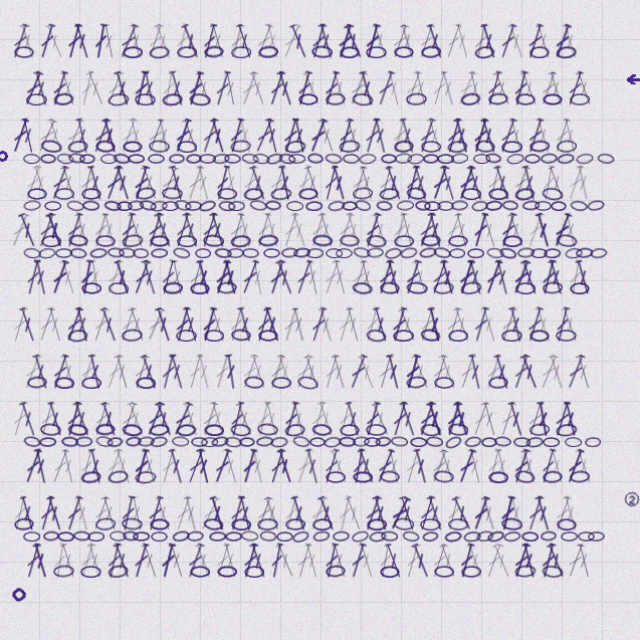chain: (296, 374, 319, 390), (41, 139, 63, 154), (135, 186, 157, 201), (122, 233, 144, 248), (554, 233, 576, 248), (459, 280, 481, 295), (459, 92, 480, 107), (405, 186, 426, 201), (419, 327, 440, 342), (108, 468, 129, 483), (513, 468, 534, 483), (108, 562, 129, 577), (108, 93, 130, 107), (189, 93, 211, 107), (351, 93, 373, 107), (284, 140, 306, 154), (270, 187, 292, 201), (540, 187, 562, 201), (554, 422, 576, 436), (135, 469, 157, 483), (540, 563, 562, 577), (443, 433, 462, 449), (149, 46, 170, 60), (473, 46, 494, 60), (554, 46, 575, 60), (162, 93, 183, 107), (68, 140, 89, 154), (446, 140, 467, 154), (243, 187, 264, 201), (378, 187, 399, 201), (513, 187, 534, 201), (230, 234, 251, 248), (365, 234, 386, 248), (351, 281, 372, 295), (68, 328, 89, 342), (365, 328, 386, 342), (68, 422, 89, 436), (122, 422, 143, 436), (149, 422, 170, 436), (176, 422, 197, 436), (230, 422, 251, 436), (284, 422, 305, 436), (311, 422, 332, 436), (419, 422, 440, 436), (81, 469, 102, 483), (203, 516, 224, 530), (338, 140, 360, 153), (405, 281, 427, 294), (256, 422, 278, 435), (513, 563, 535, 576), (311, 46, 332, 59), (54, 93, 75, 106), (405, 93, 426, 106), (149, 140, 170, 153), (230, 140, 251, 153), (162, 187, 183, 200), (203, 234, 224, 247), (432, 281, 453, 294), (122, 328, 143, 341), (405, 375, 426, 388), (41, 422, 62, 435), (432, 469, 453, 482), (122, 516, 143, 529), (500, 516, 521, 529), (54, 563, 75, 576), (265, 152, 284, 166), (198, 199, 217, 213), (172, 246, 191, 260), (383, 246, 402, 260), (497, 246, 516, 260), (291, 528, 310, 542), (350, 528, 369, 542), (485, 528, 504, 542), (204, 46, 224, 59), (258, 46, 278, 59), (420, 46, 440, 59), (325, 93, 345, 106), (487, 93, 507, 106), (96, 140, 116, 153), (393, 140, 413, 153), (474, 140, 494, 153), (528, 140, 548, 153), (555, 140, 575, 153), (352, 187, 372, 200), (69, 234, 89, 247), (258, 234, 278, 247), (312, 234, 332, 247), (339, 234, 359, 247), (420, 234, 440, 247), (163, 281, 183, 294), (217, 281, 237, 294), (379, 281, 399, 294), (541, 281, 561, 294), (231, 328, 251, 341), (28, 375, 48, 388), (244, 375, 264, 388), (487, 375, 507, 388), (96, 422, 116, 435), (447, 422, 467, 435), (528, 422, 548, 435), (379, 469, 399, 482), (541, 469, 561, 482), (568, 469, 588, 482), (15, 516, 35, 529), (96, 516, 116, 529), (393, 516, 413, 529), (325, 563, 345, 576), (365, 47, 386, 59), (27, 94, 48, 106), (135, 94, 156, 106), (500, 141, 521, 153), (176, 329, 197, 341), (392, 329, 413, 341), (500, 329, 521, 341), (554, 329, 575, 341), (365, 423, 386, 435), (257, 517, 278, 529), (419, 517, 440, 529), (81, 564, 102, 576), (15, 47, 35, 59), (123, 47, 143, 59), (177, 47, 197, 59), (231, 47, 251, 59), (339, 47, 359, 59), (393, 47, 413, 59), (528, 47, 548, 59), (298, 94, 318, 106), (514, 94, 534, 106), (541, 94, 561, 106), (568, 94, 588, 106), (123, 141, 143, 153), (177, 141, 197, 153), (420, 141, 440, 153), (28, 188, 48, 200), (55, 188, 75, 200), (82, 188, 102, 200), (217, 188, 237, 200), (298, 188, 318, 200), (460, 188, 480, 200), (487, 188, 507, 200), (42, 235, 62, 247), (96, 235, 116, 247), (150, 235, 170, 247), (177, 235, 197, 247), (393, 235, 413, 247), (447, 235, 467, 247), (501, 235, 521, 247), (82, 282, 102, 294), (109, 282, 129, 294), (190, 282, 210, 294), (514, 282, 534, 294), (568, 282, 588, 294), (204, 329, 224, 341), (258, 329, 278, 341), (447, 329, 467, 341), (528, 329, 548, 341), (55, 376, 75, 388), (82, 376, 102, 388), (136, 376, 156, 388), (271, 376, 291, 388), (433, 376, 453, 388), (204, 423, 224, 435), (339, 423, 359, 435), (325, 470, 345, 482), (352, 470, 372, 482), (487, 470, 507, 482), (150, 517, 170, 529), (231, 517, 251, 529), (285, 517, 305, 529), (312, 517, 332, 529), (366, 517, 386, 529), (447, 517, 467, 529), (555, 517, 575, 529), (190, 564, 210, 576), (217, 564, 237, 576), (244, 564, 264, 576), (379, 564, 399, 576), (433, 564, 453, 576), (460, 564, 480, 576), (139, 199, 157, 212), (174, 199, 192, 212), (249, 199, 267, 212), (353, 199, 371, 212), (585, 199, 603, 212), (352, 246, 370, 259), (399, 246, 417, 259), (418, 246, 436, 259), (432, 246, 450, 259), (24, 434, 42, 447), (96, 434, 114, 447), (150, 434, 168, 447), (211, 434, 229, 447), (292, 434, 310, 447), (463, 434, 481, 447), (172, 528, 190, 541), (312, 528, 330, 541), (475, 528, 493, 541), (57, 153, 75, 165), (113, 153, 131, 165), (212, 153, 230, 165), (241, 153, 259, 165), (252, 153, 270, 165), (278, 153, 296, 165), (324, 153, 342, 165), (358, 153, 376, 165), (406, 153, 424, 165), (505, 153, 523, 165), (555, 153, 573, 165), (574, 153, 592, 165), (595, 153, 613, 165), (67, 200, 85, 212), (104, 200, 122, 212), (150, 200, 168, 212), (218, 200, 236, 212), (327, 200, 345, 212), (568, 200, 586, 212), (24, 247, 42, 259), (39, 247, 57, 259), (70, 247, 88, 259), (90, 247, 108, 259), (214, 247, 232, 259), (485, 247, 503, 259), (563, 247, 581, 259), (588, 247, 606, 259), (224, 435, 242, 447), (270, 435, 288, 447), (323, 435, 341, 447), (524, 435, 542, 447), (368, 529, 386, 541), (401, 529, 419, 541), (443, 529, 461, 541), (462, 529, 480, 541), (502, 529, 520, 541), (375, 200, 392, 212), (470, 200, 487, 212), (107, 435, 124, 447), (421, 529, 438, 541), (24, 200, 42, 211), (259, 529, 277, 540), (69, 153, 86, 164), (394, 153, 411, 164), (450, 153, 467, 164), (539, 153, 556, 164), (83, 200, 100, 211), (396, 200, 413, 211), (450, 200, 467, 211), (484, 200, 501, 211), (521, 200, 538, 211), (108, 247, 125, 258), (119, 247, 136, 258), (281, 247, 298, 258), (293, 247, 310, 258), (366, 247, 383, 258), (516, 247, 533, 258), (574, 247, 591, 258), (62, 435, 79, 446), (76, 435, 93, 446), (138, 435, 155, 446), (172, 435, 189, 446), (256, 435, 273, 446), (338, 435, 355, 446), (352, 435, 369, 446), (374, 435, 391, 446), (390, 435, 407, 446), (425, 435, 442, 446), (493, 435, 510, 446), (74, 529, 91, 540), (110, 529, 127, 540), (187, 529, 204, 540), (241, 529, 258, 540), (332, 529, 349, 540), (380, 529, 397, 540), (307, 153, 323, 164), (484, 153, 500, 164), (128, 200, 144, 211), (265, 200, 281, 211), (414, 200, 430, 211), (501, 200, 517, 211), (126, 435, 142, 446), (44, 529, 60, 540), (123, 529, 139, 540), (539, 529, 555, 540), (24, 154, 41, 164), (101, 154, 118, 164), (128, 154, 145, 164), (148, 154, 165, 164), (199, 154, 216, 164), (224, 154, 241, 164), (288, 154, 305, 164), (342, 154, 359, 164), (436, 154, 453, 164), (472, 154, 489, 164), (45, 201, 62, 211), (162, 201, 179, 211), (185, 201, 202, 211), (228, 201, 245, 211), (286, 201, 303, 211), (305, 201, 322, 211), (423, 201, 440, 211), (436, 201, 453, 211), (533, 201, 550, 211), (56, 248, 73, 258), (151, 248, 168, 258), (227, 248, 244, 258), (242, 248, 259, 258), (263, 248, 280, 258), (306, 248, 323, 258), (325, 248, 342, 258), (335, 248, 352, 258), (466, 248, 483, 258), (529, 248, 546, 258), (542, 248, 559, 258), (40, 436, 57, 446), (191, 436, 208, 446), (201, 436, 218, 446), (363, 436, 380, 446), (409, 436, 426, 446), (512, 436, 529, 446), (541, 436, 558, 446), (563, 436, 580, 446), (24, 530, 41, 540), (58, 530, 75, 540), (88, 530, 105, 540), (133, 530, 150, 540), (151, 530, 168, 540), (209, 530, 226, 540), (225, 530, 242, 540), (276, 530, 293, 540), (520, 530, 537, 540), (559, 530, 576, 540), (576, 530, 593, 540), (586, 530, 603, 540), (41, 154, 57, 164), (80, 154, 96, 164), (169, 154, 185, 164), (186, 154, 202, 164), (380, 154, 396, 164), (422, 154, 438, 164), (523, 154, 539, 164), (117, 201, 133, 211), (341, 201, 357, 211), (549, 201, 565, 211), (133, 248, 149, 258), (195, 248, 211, 258), (448, 248, 464, 258), (239, 436, 255, 446), (309, 436, 325, 446), (480, 436, 496, 446), (583, 436, 599, 446)
double: (386, 494, 412, 530), (448, 494, 474, 530), (453, 71, 478, 107), (35, 118, 60, 154), (170, 400, 195, 436), (117, 24, 141, 60), (179, 24, 203, 60), (279, 24, 303, 60), (341, 24, 365, 60), (22, 71, 46, 107), (84, 71, 108, 107), (63, 118, 87, 154), (252, 118, 276, 154), (157, 165, 181, 201), (9, 212, 33, 248), (144, 306, 168, 342), (516, 353, 540, 389), (535, 353, 559, 389), (562, 353, 586, 389), (368, 400, 392, 436), (198, 494, 222, 530), (306, 494, 330, 530), (273, 541, 297, 577), (408, 541, 432, 577), (401, 70, 423, 108), (490, 164, 512, 202), (563, 164, 585, 202), (320, 258, 342, 296), (347, 258, 369, 296), (50, 352, 72, 390), (77, 352, 99, 390), (274, 352, 296, 390), (509, 352, 531, 390), (571, 446, 593, 484), (247, 540, 269, 578), (44, 24, 67, 60), (152, 24, 175, 60), (252, 24, 275, 60), (287, 24, 310, 60), (238, 71, 261, 107), (300, 71, 323, 107), (346, 71, 369, 107), (489, 71, 512, 107), (516, 71, 539, 107), (144, 118, 167, 154), (179, 118, 202, 154), (306, 118, 329, 154), (495, 118, 518, 154), (49, 165, 72, 201), (103, 165, 126, 201), (138, 165, 161, 201), (184, 165, 207, 201), (454, 165, 477, 201), (17, 212, 40, 248), (36, 212, 59, 248), (44, 212, 67, 248), (152, 212, 175, 248), (503, 212, 526, 248), (549, 212, 572, 248), (49, 259, 72, 295), (273, 259, 296, 295), (481, 259, 504, 295), (98, 306, 121, 342), (395, 306, 418, 342), (22, 353, 45, 389), (138, 353, 161, 389), (238, 353, 261, 389), (292, 353, 315, 389), (346, 353, 369, 389), (408, 353, 431, 389), (435, 353, 458, 389), (71, 400, 94, 436), (125, 400, 148, 436), (144, 400, 167, 436), (233, 400, 256, 436), (211, 447, 234, 483), (327, 447, 350, 483), (354, 447, 377, 483), (373, 447, 396, 483), (427, 447, 450, 483), (454, 447, 477, 483), (562, 447, 585, 483), (111, 541, 134, 577), (184, 541, 207, 577), (192, 541, 215, 577), (489, 541, 512, 577), (543, 541, 566, 577), (562, 541, 585, 577), (10, 24, 32, 60), (388, 24, 410, 60), (423, 24, 445, 60), (504, 24, 526, 60), (550, 24, 572, 60), (104, 71, 126, 107), (193, 71, 215, 107), (274, 71, 296, 107), (374, 71, 396, 107), (536, 71, 558, 107), (571, 71, 593, 107), (10, 118, 32, 154), (45, 118, 67, 154), (91, 118, 113, 154), (118, 118, 140, 154), (172, 118, 194, 154), (199, 118, 221, 154), (315, 118, 337, 154), (415, 118, 437, 154), (523, 118, 545, 154), (23, 165, 45, 201), (58, 165, 80, 201), (112, 165, 134, 201), (247, 165, 269, 201), (266, 165, 288, 201), (301, 165, 323, 201), (347, 165, 369, 201), (382, 165, 404, 201), (428, 165, 450, 201), (463, 165, 485, 201), (509, 165, 531, 201), (544, 165, 566, 201), (64, 212, 86, 248), (180, 212, 202, 248), (288, 212, 310, 248), (334, 212, 356, 248), (361, 212, 383, 248), (415, 212, 437, 248), (496, 212, 518, 248), (523, 212, 545, 248), (104, 259, 126, 295), (131, 259, 153, 295), (239, 259, 261, 295), (266, 259, 288, 295), (401, 259, 423, 295), (509, 259, 531, 295), (517, 259, 539, 295), (64, 306, 86, 342), (126, 306, 148, 342), (261, 306, 283, 342), (450, 306, 472, 342), (496, 306, 518, 342), (531, 306, 553, 342), (104, 353, 126, 389), (247, 353, 269, 389), (266, 353, 288, 389), (355, 353, 377, 389), (455, 353, 477, 389), (544, 353, 566, 389), (18, 400, 40, 436), (118, 400, 140, 436), (153, 400, 175, 436), (180, 400, 202, 436), (199, 400, 221, 436), (396, 400, 418, 436), (415, 400, 437, 436), (423, 400, 445, 436), (23, 447, 45, 483), (50, 447, 72, 483), (112, 447, 134, 483), (185, 447, 207, 483), (293, 447, 315, 483), (509, 447, 531, 483), (64, 494, 86, 530), (172, 494, 194, 530), (253, 494, 275, 530), (261, 494, 283, 530), (315, 494, 337, 530), (342, 494, 364, 530), (361, 494, 383, 530), (423, 494, 445, 530), (469, 494, 491, 530), (523, 494, 545, 530), (550, 494, 572, 530), (77, 541, 99, 577), (139, 541, 161, 577), (382, 541, 404, 577), (436, 541, 458, 577), (463, 541, 485, 577), (482, 541, 504, 577), (509, 541, 531, 577), (18, 24, 39, 60), (145, 24, 166, 60), (207, 24, 228, 60), (234, 24, 255, 60), (315, 24, 336, 60), (334, 24, 355, 60), (369, 24, 390, 60), (396, 24, 417, 60), (415, 24, 436, 60), (442, 24, 463, 60), (477, 24, 498, 60), (496, 24, 517, 60), (523, 24, 544, 60), (558, 24, 579, 60), (50, 71, 71, 107), (112, 71, 133, 107), (185, 71, 206, 107), (212, 71, 233, 107), (247, 71, 268, 107), (266, 71, 287, 107), (544, 71, 565, 107), (563, 71, 584, 107), (280, 118, 301, 154), (342, 118, 363, 154), (361, 118, 382, 154), (396, 118, 417, 154), (423, 118, 444, 154), (450, 118, 471, 154), (469, 118, 490, 154), (477, 118, 498, 154), (531, 118, 552, 154), (550, 118, 571, 154), (31, 165, 52, 201), (131, 165, 152, 201), (409, 165, 430, 201), (91, 212, 112, 248), (126, 212, 147, 248), (145, 212, 166, 248), (199, 212, 220, 248), (207, 212, 228, 248), (226, 212, 247, 248), (280, 212, 301, 248), (307, 212, 328, 248), (315, 212, 336, 248), (369, 212, 390, 248), (442, 212, 463, 248), (469, 212, 490, 248), (531, 212, 552, 248), (58, 259, 79, 295), (112, 259, 133, 295), (139, 259, 160, 295), (212, 259, 233, 295), (293, 259, 314, 295), (409, 259, 430, 295), (428, 259, 449, 295), (455, 259, 476, 295), (544, 259, 565, 295), (18, 306, 39, 342), (37, 306, 58, 342), (45, 306, 66, 342), (91, 306, 112, 342), (118, 306, 139, 342), (153, 306, 174, 342), (207, 306, 228, 342), (280, 306, 301, 342), (315, 306, 336, 342), (334, 306, 355, 342), (388, 306, 409, 342), (442, 306, 463, 342), (477, 306, 498, 342), (523, 306, 544, 342), (558, 306, 579, 342), (31, 353, 52, 389), (131, 353, 152, 389), (212, 353, 233, 389), (301, 353, 322, 389), (328, 353, 349, 389), (374, 353, 395, 389), (428, 353, 449, 389), (482, 353, 503, 389), (490, 353, 511, 389), (571, 353, 592, 389), (10, 400, 31, 436), (64, 400, 85, 436), (99, 400, 120, 436), (207, 400, 228, 436), (307, 400, 328, 436), (315, 400, 336, 436), (342, 400, 363, 436), (450, 400, 471, 436), (469, 400, 490, 436), (496, 400, 517, 436), (504, 400, 525, 436), (523, 400, 544, 436), (550, 400, 571, 436), (104, 447, 125, 483), (139, 447, 160, 483), (166, 447, 187, 483), (220, 447, 241, 483), (274, 447, 295, 483), (401, 447, 422, 483), (436, 447, 457, 483), (517, 447, 538, 483), (45, 494, 66, 530), (91, 494, 112, 530), (99, 494, 120, 530), (145, 494, 166, 530), (153, 494, 174, 530), (207, 494, 228, 530), (288, 494, 309, 530), (369, 494, 390, 530), (396, 494, 417, 530), (477, 494, 498, 530), (531, 494, 552, 530), (31, 541, 52, 577), (85, 541, 106, 577), (131, 541, 152, 577), (166, 541, 187, 577), (212, 541, 233, 577), (293, 541, 314, 577), (328, 541, 349, 577), (347, 541, 368, 577), (355, 541, 376, 577), (428, 541, 449, 577), (38, 24, 58, 60), (65, 24, 85, 60), (73, 24, 93, 60), (227, 24, 247, 60), (262, 24, 282, 60), (308, 24, 328, 60), (362, 24, 382, 60), (451, 24, 471, 60), (532, 24, 552, 60), (32, 71, 52, 107), (59, 71, 79, 107), (167, 71, 187, 107), (294, 71, 314, 107), (321, 71, 341, 107), (329, 71, 349, 107), (356, 71, 376, 107), (437, 71, 457, 107), (483, 71, 503, 107), (100, 118, 120, 154), (208, 118, 228, 154), (235, 118, 255, 154), (335, 118, 355, 154), (443, 118, 463, 154), (505, 118, 525, 154), (86, 165, 106, 201), (240, 165, 260, 201), (294, 165, 314, 201), (356, 165, 376, 201), (375, 165, 395, 201), (437, 165, 457, 201), (483, 165, 503, 201), (518, 165, 538, 201), (73, 212, 93, 248), (100, 212, 120, 248), (173, 212, 193, 248), (235, 212, 255, 248), (262, 212, 282, 248), (343, 212, 363, 248), (389, 212, 409, 248), (424, 212, 444, 248), (478, 212, 498, 248), (24, 259, 44, 295), (186, 259, 206, 295), (329, 259, 349, 295), (375, 259, 395, 295), (464, 259, 484, 295), (491, 259, 511, 295), (537, 259, 557, 295), (11, 306, 31, 342), (73, 306, 93, 342), (173, 306, 193, 342), (181, 306, 201, 342), (235, 306, 255, 342), (308, 306, 328, 342), (370, 306, 390, 342), (416, 306, 436, 342), (470, 306, 490, 342), (59, 353, 79, 389), (167, 353, 187, 389), (194, 353, 214, 389), (321, 353, 341, 389), (402, 353, 422, 389), (38, 400, 58, 436), (46, 400, 66, 436), (92, 400, 112, 436), (281, 400, 301, 436), (362, 400, 382, 436), (389, 400, 409, 436), (443, 400, 463, 436), (478, 400, 498, 436), (132, 447, 152, 483), (267, 447, 287, 483), (302, 447, 322, 483), (321, 447, 341, 483), (410, 447, 430, 483), (545, 447, 565, 483), (38, 494, 58, 530), (73, 494, 93, 530), (181, 494, 201, 530), (227, 494, 247, 530), (416, 494, 436, 530), (505, 494, 525, 530), (559, 494, 579, 530), (24, 541, 44, 577), (59, 541, 79, 577), (240, 541, 260, 577), (402, 541, 422, 577), (537, 541, 557, 577), (572, 541, 592, 577), (173, 24, 192, 60), (200, 24, 219, 60), (132, 71, 151, 107), (140, 71, 159, 107), (410, 71, 429, 107), (429, 71, 448, 107), (510, 71, 529, 107), (127, 118, 146, 154), (227, 118, 246, 154), (370, 118, 389, 154), (389, 118, 408, 154), (559, 118, 578, 154), (78, 165, 97, 201), (167, 165, 186, 201), (194, 165, 213, 201), (213, 165, 232, 201), (321, 165, 340, 201), (329, 165, 348, 201), (402, 165, 421, 201), (572, 165, 591, 201), (119, 212, 138, 248), (254, 212, 273, 248), (397, 212, 416, 248), (451, 212, 470, 248), (32, 259, 51, 295), (159, 259, 178, 295), (194, 259, 213, 295), (221, 259, 240, 295), (383, 259, 402, 295), (437, 259, 456, 295), (572, 259, 591, 295), (200, 306, 219, 342), (227, 306, 246, 342), (254, 306, 273, 342), (289, 306, 308, 342), (343, 306, 362, 342), (362, 306, 381, 342), (424, 306, 443, 342), (505, 306, 524, 342), (86, 353, 105, 389), (113, 353, 132, 389), (159, 353, 178, 389), (186, 353, 205, 389), (383, 353, 402, 389), (254, 400, 273, 436), (262, 400, 281, 436), (289, 400, 308, 436), (335, 400, 354, 436), (32, 447, 51, 483), (78, 447, 97, 483), (159, 447, 178, 483), (194, 447, 213, 483), (240, 447, 259, 483), (248, 447, 267, 483), (464, 447, 483, 483), (483, 447, 502, 483), (491, 447, 510, 483), (537, 447, 556, 483), (19, 494, 38, 530), (119, 494, 138, 530), (335, 494, 354, 530), (443, 494, 462, 530), (497, 494, 516, 530), (105, 541, 124, 577), (159, 541, 178, 577), (221, 541, 240, 577), (302, 541, 321, 577), (456, 541, 475, 577), (518, 541, 537, 577), (471, 24, 489, 60), (79, 71, 97, 107), (384, 71, 402, 107), (465, 71, 483, 107), (20, 118, 38, 154), (74, 118, 92, 154), (155, 118, 173, 154), (263, 118, 281, 154), (290, 118, 308, 154), (222, 165, 240, 201), (560, 212, 578, 248), (168, 259, 186, 295), (303, 259, 321, 295), (357, 259, 375, 295), (552, 306, 570, 342), (465, 353, 483, 389), (228, 400, 246, 436), (560, 400, 578, 436), (60, 447, 78, 483), (87, 447, 105, 483), (384, 447, 402, 483), (12, 494, 30, 530), (128, 494, 146, 530), (236, 494, 254, 530), (282, 494, 300, 530), (322, 541, 340, 577), (93, 24, 110, 60), (101, 24, 118, 60), (128, 24, 145, 60), (222, 71, 239, 107), (276, 165, 293, 201), (79, 259, 96, 295), (87, 259, 104, 295), (249, 259, 266, 295), (565, 259, 582, 295), (533, 400, 550, 436), (52, 541, 69, 577), (268, 541, 285, 577), (376, 541, 393, 577), (161, 71, 177, 107), (539, 165, 555, 201), (223, 353, 239, 389), (350, 447, 366, 483)
noise: (620, 488, 640, 508), (11, 584, 29, 602), (622, 75, 640, 85), (0, 149, 10, 163)
